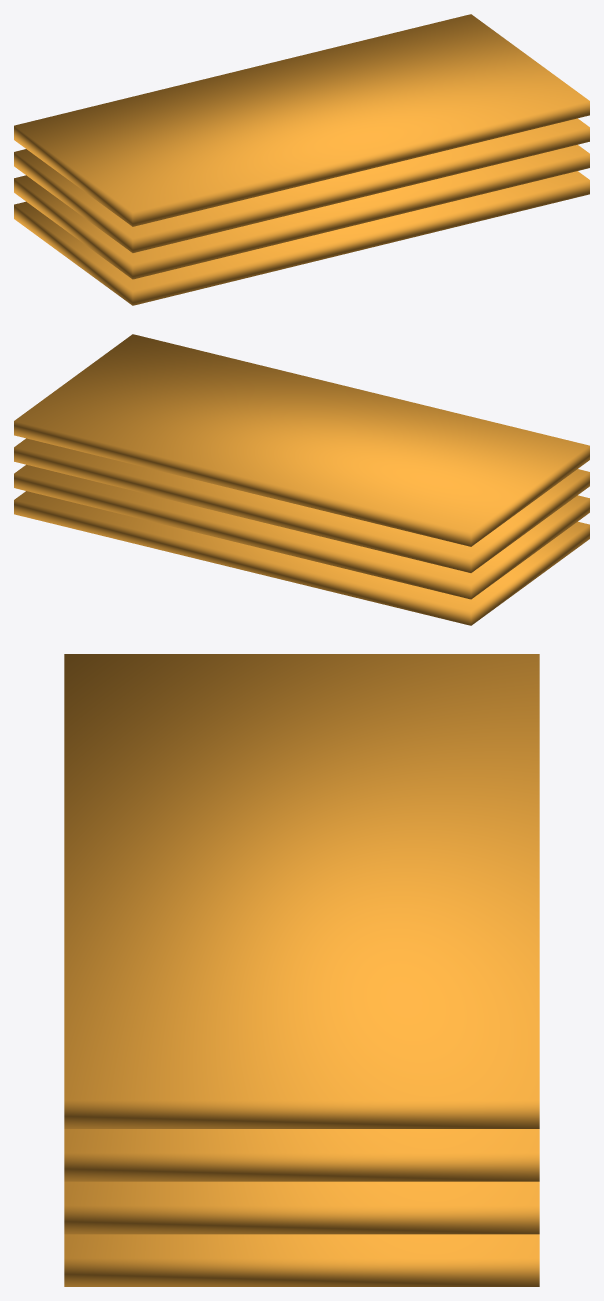
Rendered from 4blocks.glb.
3 renders of one model, top to bottom at view 1: azimuth 30°, elevation 25°; view 2: azimuth 150°, elevation 25°; view 3: azimuth 270°, elevation 25°, orthographic. The views are drawn at different scales.
Parts seen in each view (by area): view 1: Slab_4, Slab_1, Slab_2, Slab_3; view 2: Slab_4, Slab_1, Slab_2, Slab_3; view 3: Slab_4, Slab_2, Slab_1, Slab_3.
Boxes of the visible parts, left/top/right/bottom form: Slab_4: left=14, top=14, right=589, bottom=226; Slab_1: left=14, top=171, right=589, bottom=305; Slab_2: left=14, top=144, right=589, bottom=279; Slab_3: left=14, top=118, right=589, bottom=252; Slab_4: left=14, top=334, right=589, bottom=546; Slab_1: left=14, top=491, right=589, bottom=625; Slab_2: left=14, top=464, right=589, bottom=599; Slab_3: left=14, top=438, right=589, bottom=572; Slab_4: left=64, top=654, right=539, bottom=1128; Slab_2: left=64, top=1181, right=539, bottom=1234; Slab_1: left=64, top=1234, right=539, bottom=1286; Slab_3: left=64, top=1129, right=539, bottom=1181.
Size of the model in its own units: 4 by 0.78 by 1.8.
